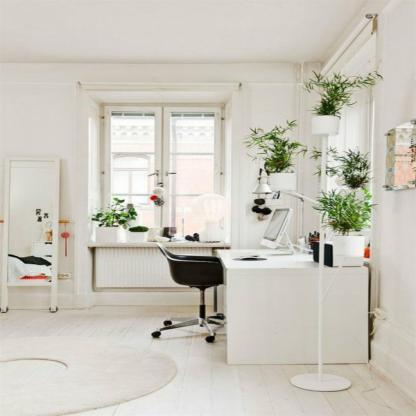chair: (148, 234, 226, 356)
light: (296, 112, 354, 403), (254, 169, 333, 224)
table: (215, 239, 383, 366)
